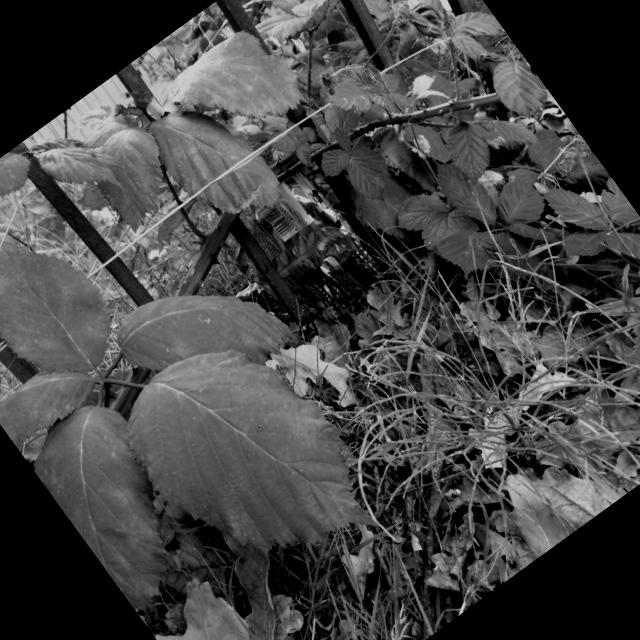Crisp packet: (245, 171, 388, 312)
